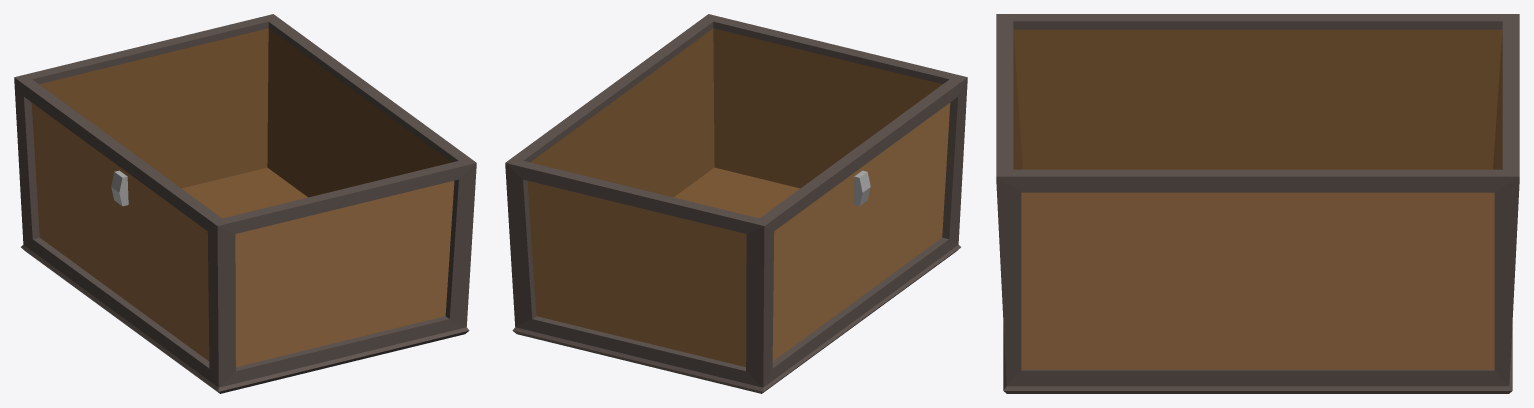
The model's file is Chest_Base.glb.
3 renders of one model, left to right at view 1: azimuth 30°, elevation 25°; view 2: azimuth 150°, elevation 25°; view 3: azimuth 270°, elevation 25°, orthographic. The views are drawn at different scales.
Visible parts, largest first — view 1: Chest_Base2; view 2: Chest_Base2; view 3: Chest_Base2.
Boxes of the visible parts, <box> form: Chest_Base2: <box>14,14,476,393</box>; Chest_Base2: <box>505,14,967,393</box>; Chest_Base2: <box>996,14,1519,393</box>.
Bounding box in the file's own units: 1.15 × 0.731 × 1.56.
Materials: 2 (2 with a texture image).
